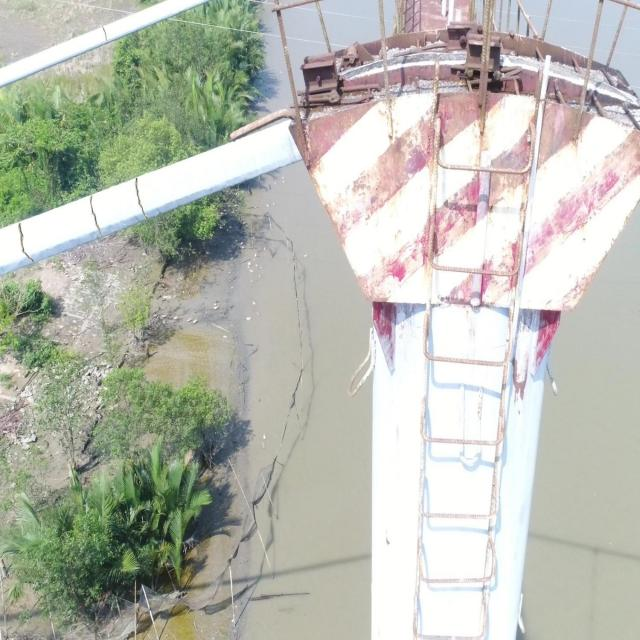crack: (18, 223, 34, 263), (134, 178, 148, 219), (89, 195, 102, 237), (101, 26, 108, 42)
